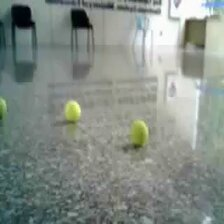tennis: (130, 119, 149, 147), (63, 100, 81, 121), (1, 98, 9, 121)
